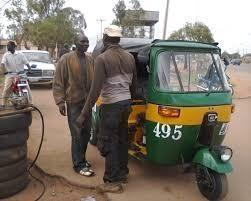keke: (86, 38, 236, 201)
